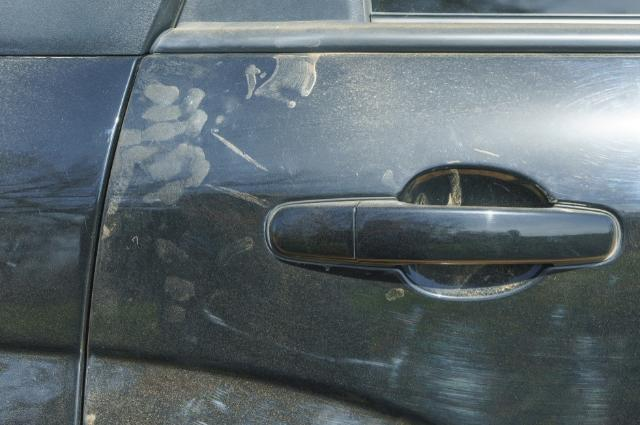Door: (129, 52, 640, 425)
